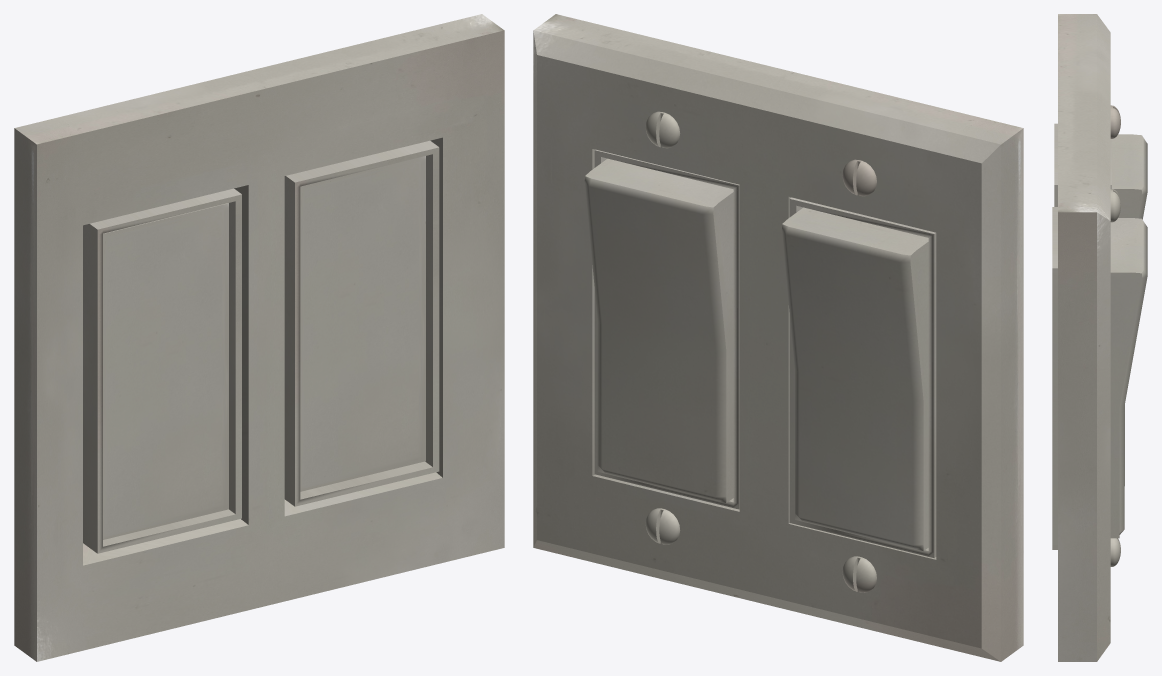
The model's file is Switch.fbx.
The picture shows the model from 3 angles, left to right: view 1: azimuth 30°, elevation 25°; view 2: azimuth 150°, elevation 25°; view 3: azimuth 270°, elevation 25°; orthographic projection. The views are drawn at different scales.
Parts seen in each view (by area): view 1: polySurface1124; view 2: polySurface1124; view 3: polySurface1124.
Part boxes in pixels (<box>): polySurface1124: <box>14,14,504,661</box>; polySurface1124: <box>533,14,1023,661</box>; polySurface1124: <box>1052,14,1147,661</box>.
Size of the model in its own units: 0.1798 by 0.1901 by 0.0366.
